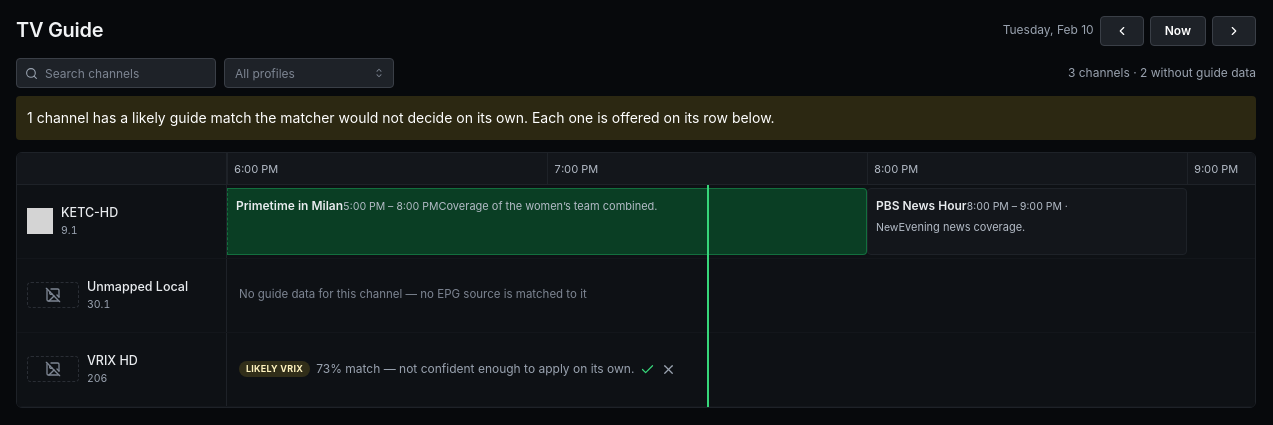
Test case: the ambiguous band › accepts a suggestion and stops offering it
Expected: the text "VRIX HD" is shown, [87, 351, 138, 370]
Step 1. Click the button named "Use VRIX for VRIX HD" → [648, 369], box [640, 362, 655, 377]
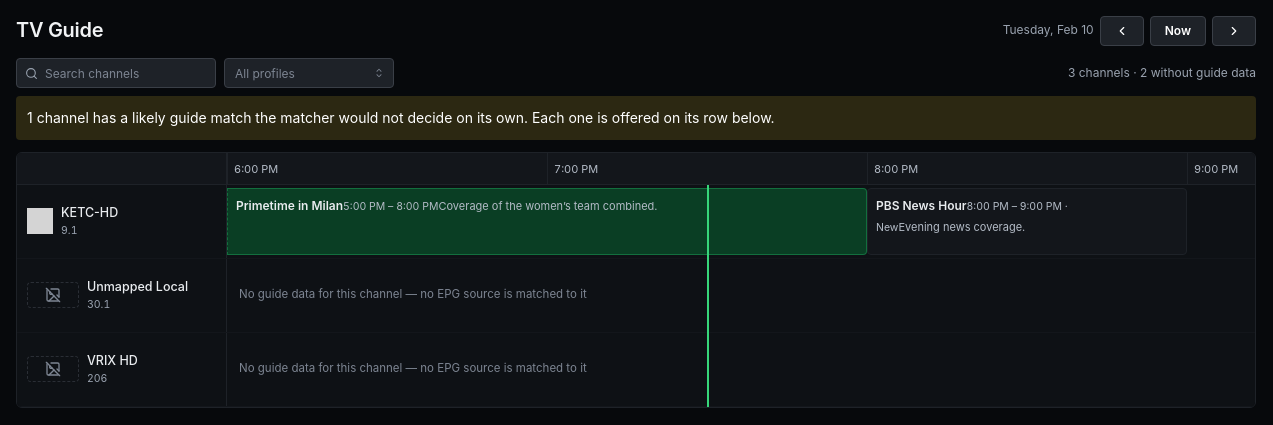
Expected: the text "VRIX HD" is shown, [87, 351, 138, 370]
Now the text "likely VRIX" is gone
